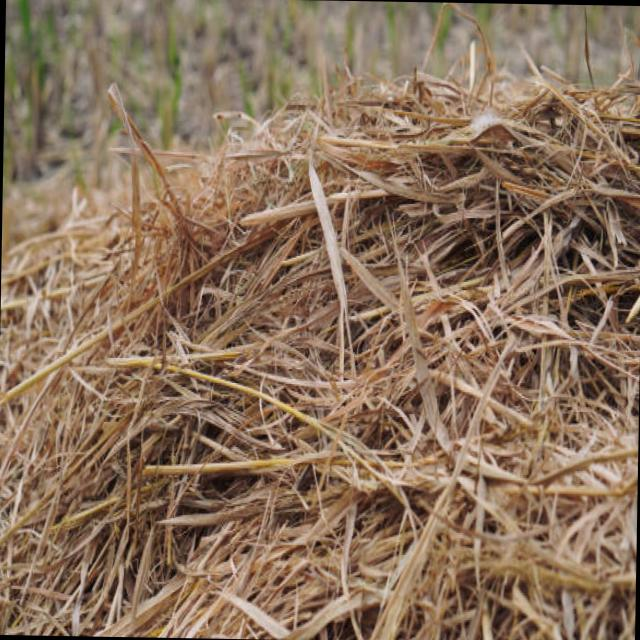paper: (362, 294, 638, 616), (398, 1, 640, 266), (84, 246, 352, 447)
